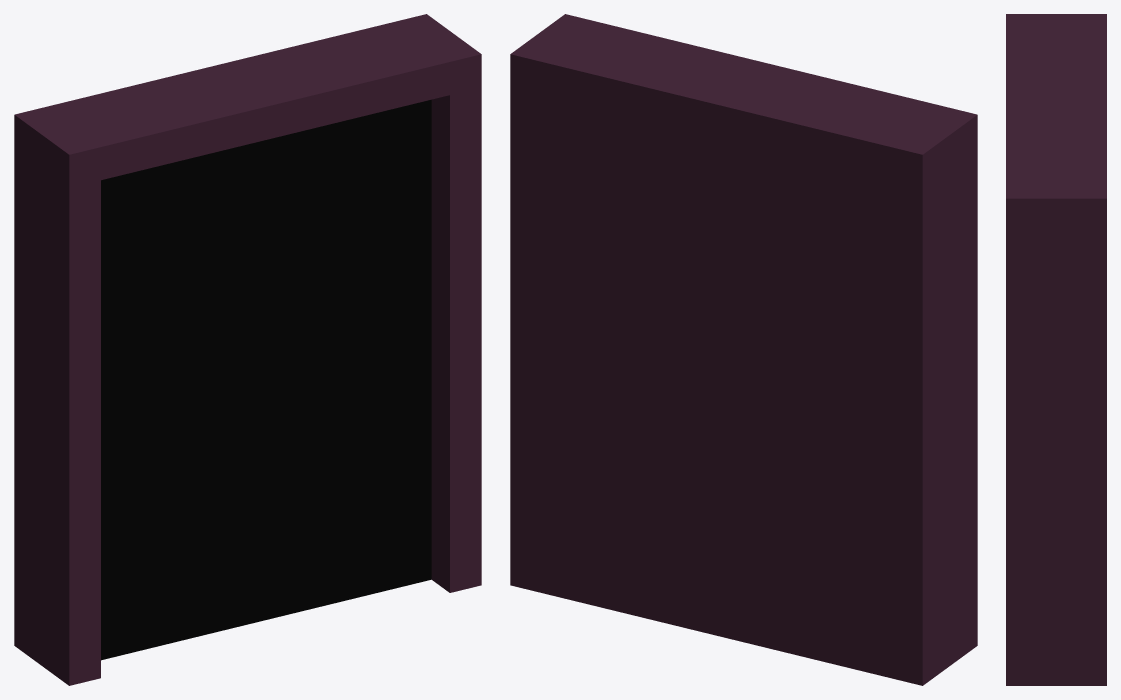
Rendered from dungeon_c_a_entrance_a.obj.
3 renders of one model, left to right at view 1: azimuth 30°, elevation 25°; view 2: azimuth 150°, elevation 25°; view 3: azimuth 270°, elevation 25°, orthographic. The views are drawn at different scales.
Bounding box in the file's own units: 1.3 × 1.6 × 0.3.
Materials: 1 (1 with a texture image).
